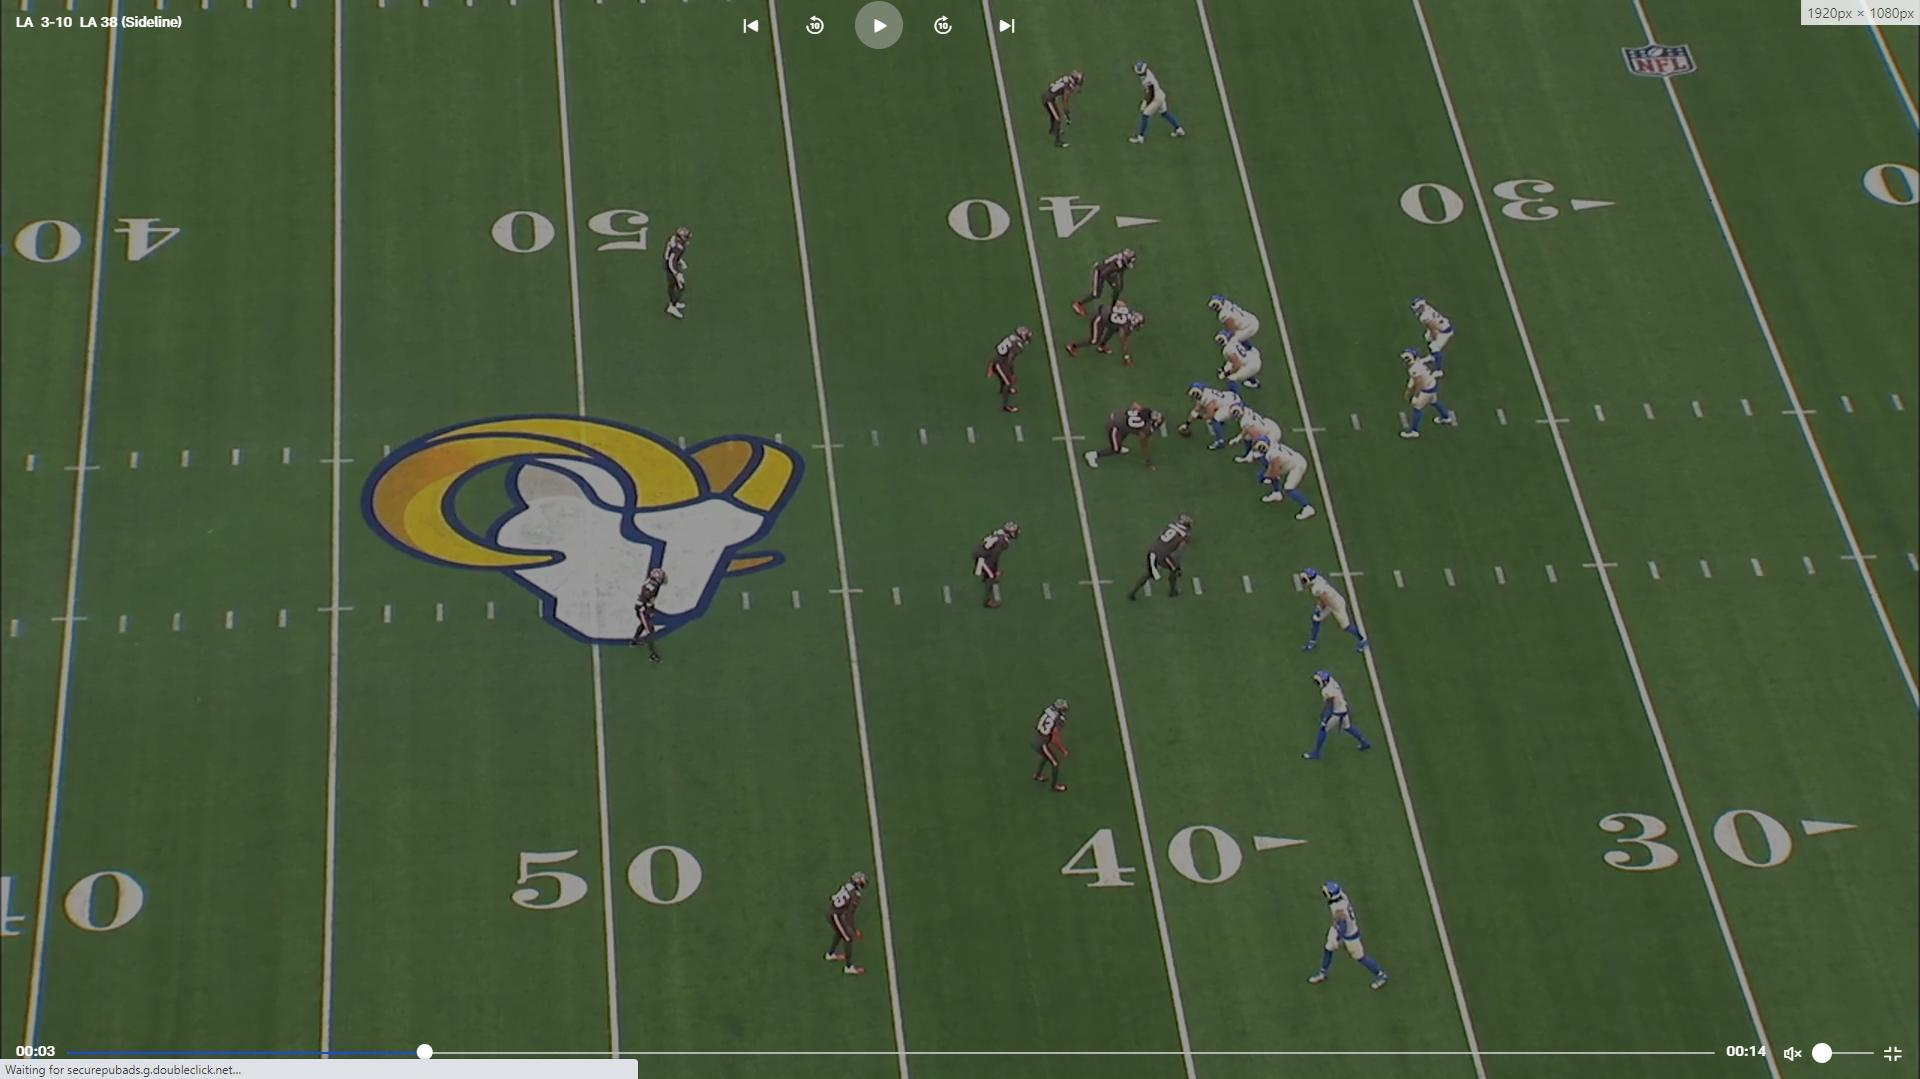player: (1306, 877, 1402, 996), (1301, 668, 1386, 770), (1296, 561, 1381, 657), (818, 862, 880, 980), (1128, 513, 1200, 604), (1128, 57, 1196, 151), (1060, 303, 1150, 373), (1395, 344, 1456, 446), (1247, 435, 1316, 525), (1085, 401, 1172, 472), (1028, 696, 1080, 802), (1069, 245, 1141, 318), (988, 322, 1040, 423), (970, 517, 1023, 614), (1175, 379, 1241, 451), (629, 566, 674, 668), (1406, 296, 1455, 388), (655, 218, 697, 325), (1043, 69, 1088, 155), (1216, 330, 1270, 400), (1233, 404, 1285, 469), (1210, 288, 1267, 340)
